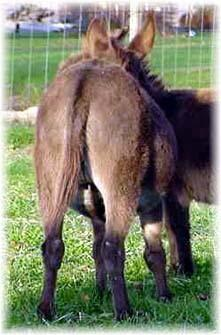donkey: (33, 30, 178, 334)
